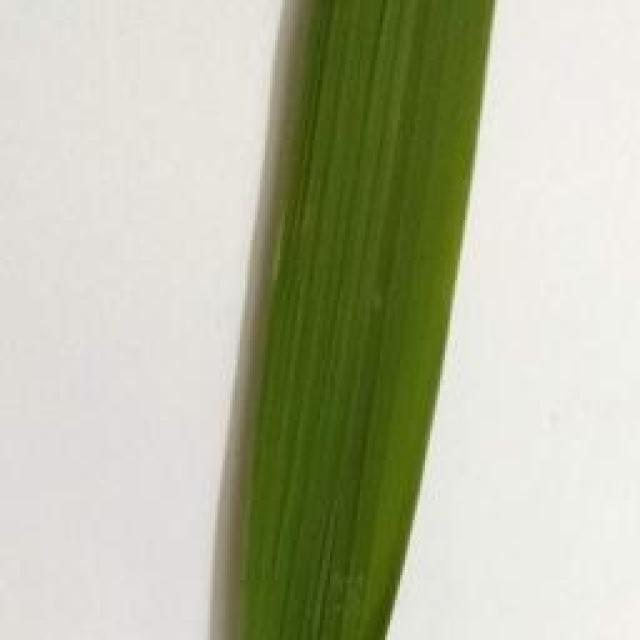Healthy-Plant: (240, 0, 496, 640)
